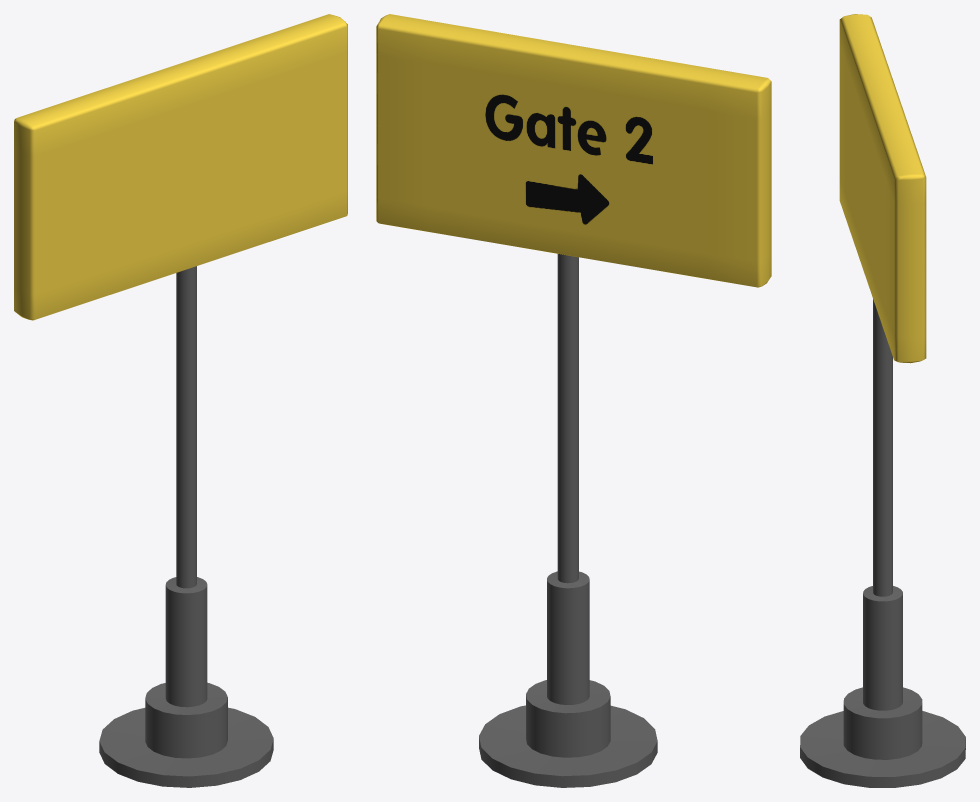
File: gate2.fbx
The picture shows the model from 3 angles, left to right: view 1: azimuth 30°, elevation 25°; view 2: azimuth 150°, elevation 25°; view 3: azimuth 270°, elevation 25°; orthographic projection. The views are drawn at different scales.
Visible parts, largest first — view 1: pCube4, pCylinder2; view 2: pCube4, pCylinder2; view 3: pCylinder2, pCube4.
Part boxes in pixels (box(x1,y1,x2,y2)): pCube4: box(14, 14, 347, 320); pCylinder2: box(99, 266, 273, 787); pCube4: box(376, 14, 771, 287); pCylinder2: box(479, 254, 657, 787); pCylinder2: box(800, 299, 965, 787); pCube4: box(839, 14, 926, 363).
Size of the model in its own units: 4.02 by 7.5 by 1.72.
